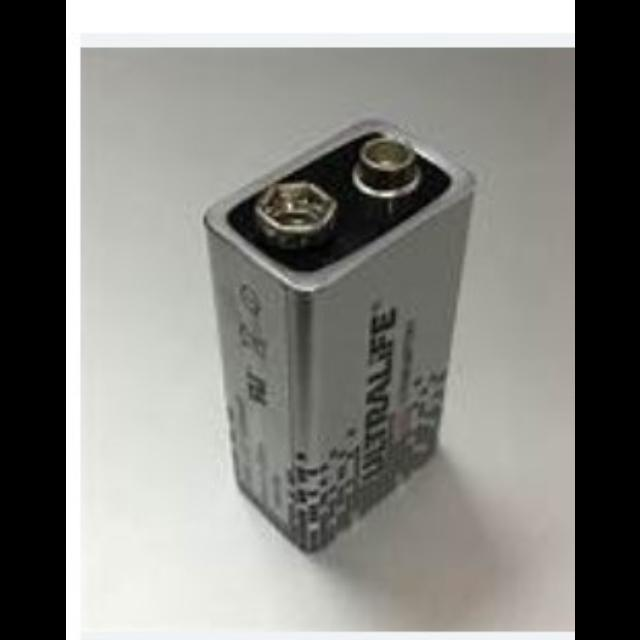Battery: (199, 122, 478, 557)
